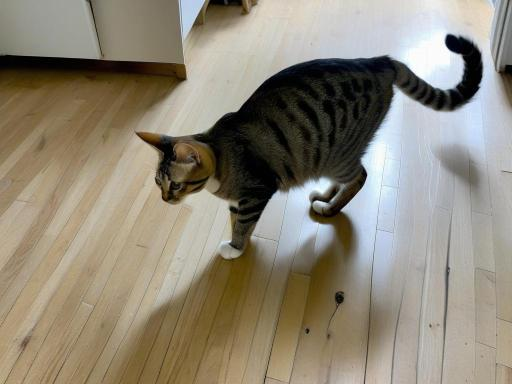cat_standing: (138, 34, 483, 258)
